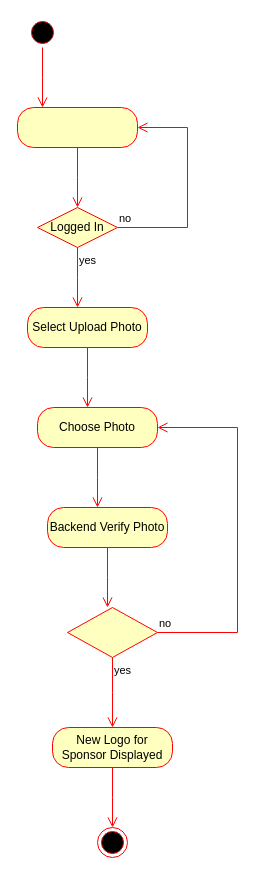
Image size: 265x875. Some labels were removed from this diagram. The centre of each missing label's shape, as x and y in pixels:
Sponsor logs in: point 77,127
Verified: point 112,632
